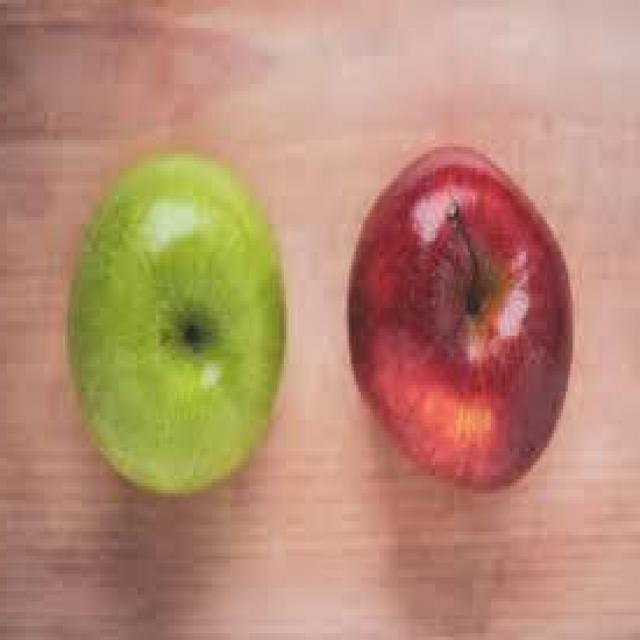apple: (350, 144, 574, 484)
